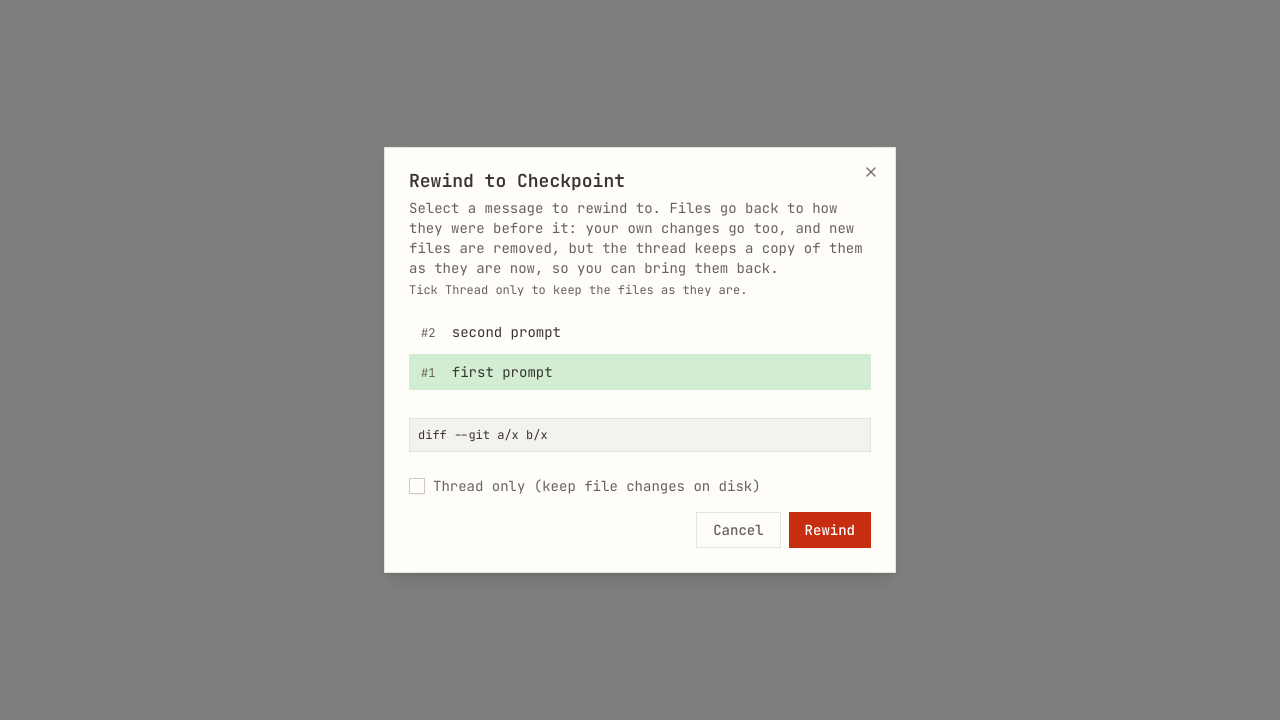
it: RewindDialog › says a copy of the files is kept, and that the files stay once Thread only is ticked
Click the checkbox with id "conversation-only" at (417, 486), box [409,478,425,494]
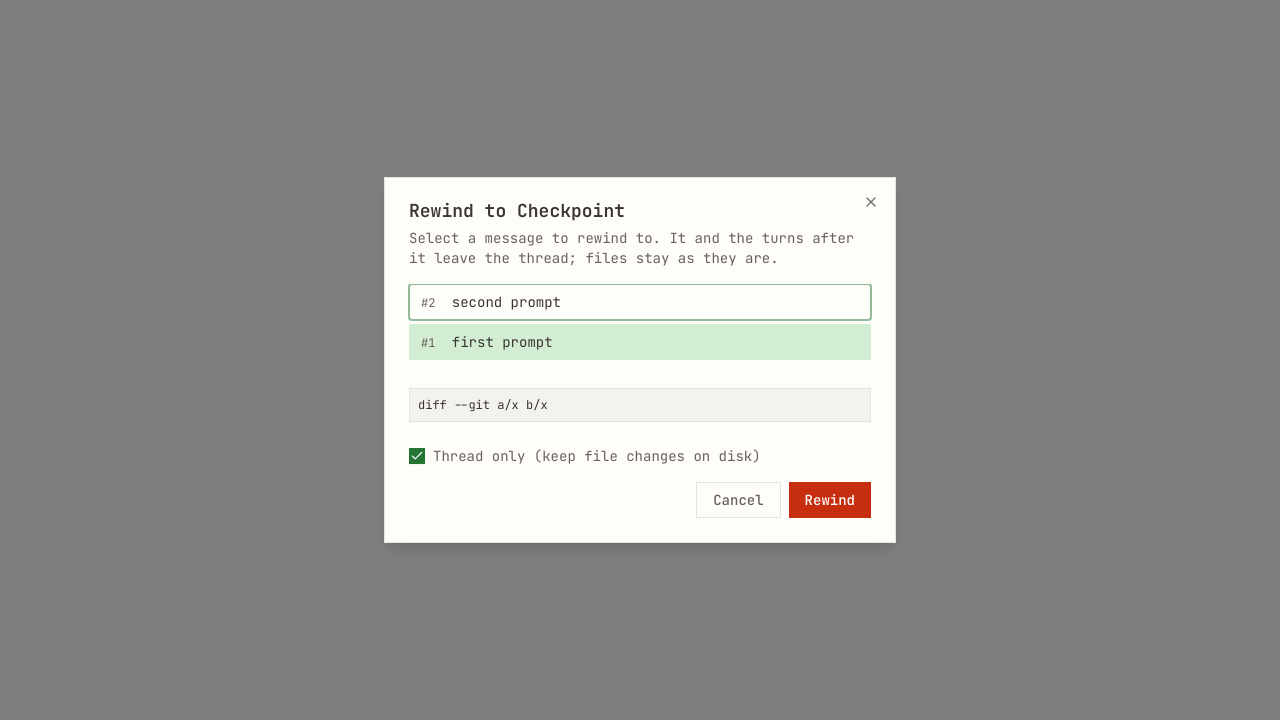
Now the text "files stay as they are" is shown, box [409,229,854,267]
Now the text "keeps a copy" is gone
